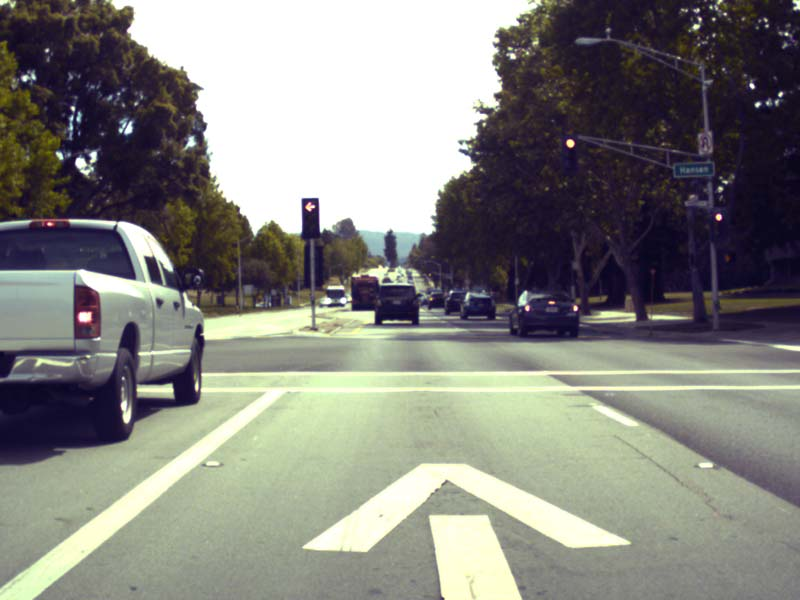Red: (302, 198, 318, 237), (564, 137, 575, 170), (714, 212, 722, 236)
